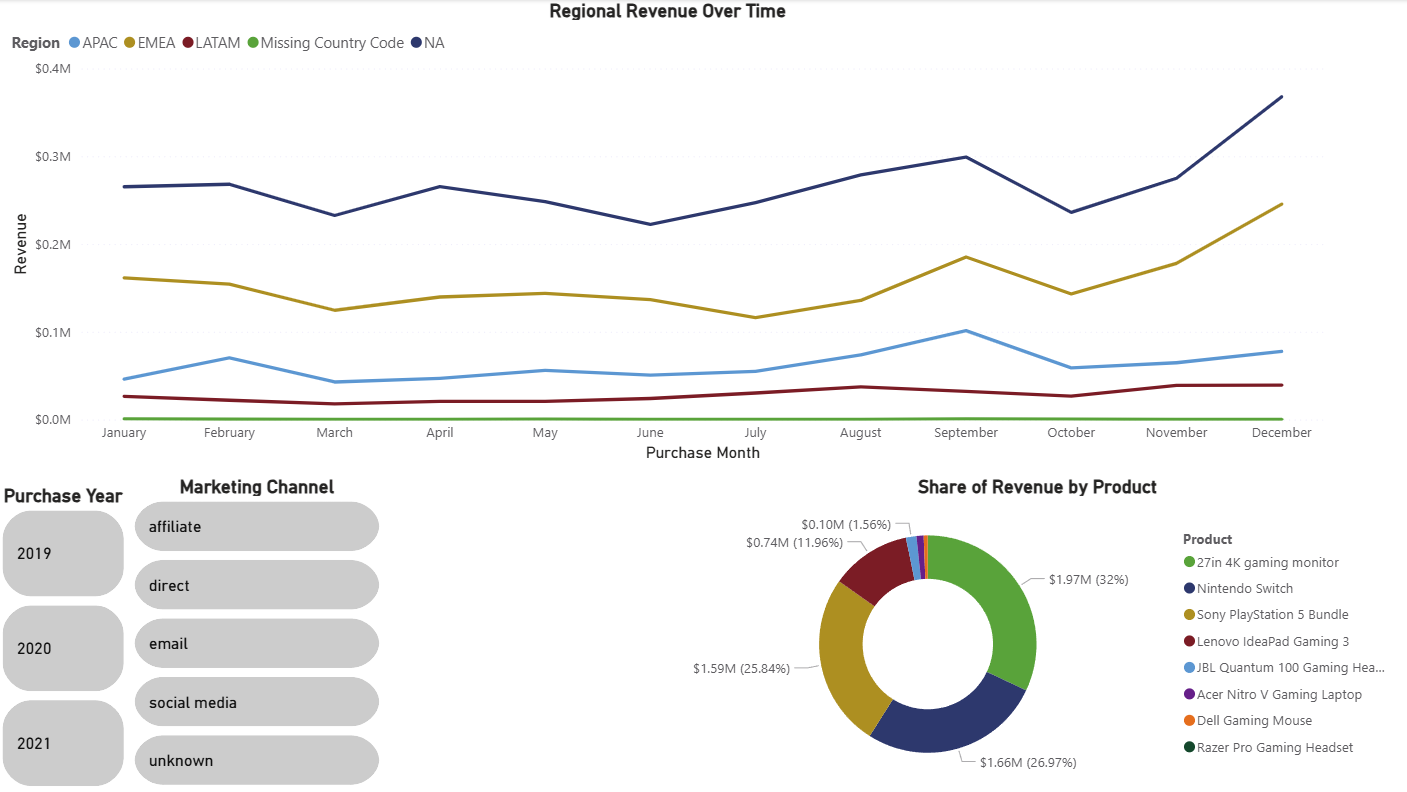

Layout of this report page (visuals, bound fields, positions):
{"tool":"powerbi","page":{"name":"Performance with Time","canvas":[1280,720],"ordinal":3},"visuals":[{"type":"lineChart","title":"Regional Revenue Over Time","fields":{"Y":["Sum(public orders.usd_price)"],"Category":["Date.Date.Variation.Date Hierarchy.Month"],"Series":["public orders.region"]},"box":[8,0,1200,424],"z":0},{"type":"advancedSlicerVisual","title":"Marketing Channel","fields":{"Values":["public orders.marketing_channel"]},"box":[120,432,232,288],"z":2000},{"type":"actionButton","box":[0,0,100,40],"z":3000},{"type":"advancedSlicerVisual","title":"Purchase Year","fields":{"Values":["public orders.purchase_year"]},"box":[0,440,120,280],"z":4000},{"type":"donutChart","title":"Share of Revenue by Product","fields":{"Category":["public orders.product_name"],"Y":["Sum(public orders.usd_price)"]},"box":[608,432,672,288],"z":5000}]}

Visuals, with their boxes in screenshot pixels (x1, y1, x2, y2), scaled from the page's 1280x720 canvas onto the 1407x792 screenshot:
"Regional Revenue Over Time" lineChart: 9:0:1328:466
"Marketing Channel" advancedSlicerVisual: 132:475:387:791
actionButton: 0:0:110:44
"Purchase Year" advancedSlicerVisual: 0:484:132:791
"Share of Revenue by Product" donutChart: 668:475:1406:791
